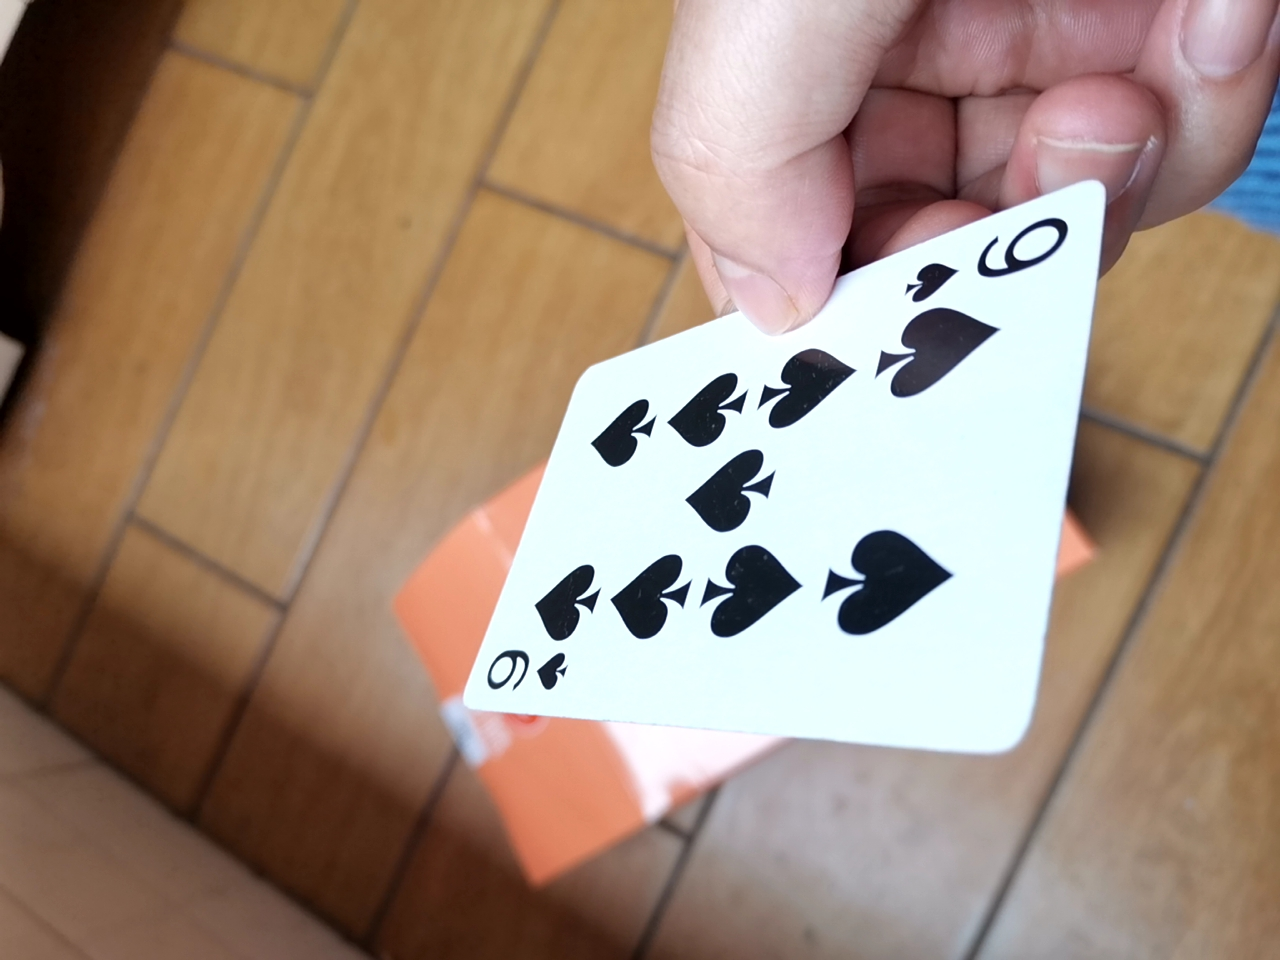ht 9: (443, 187, 1092, 792)
